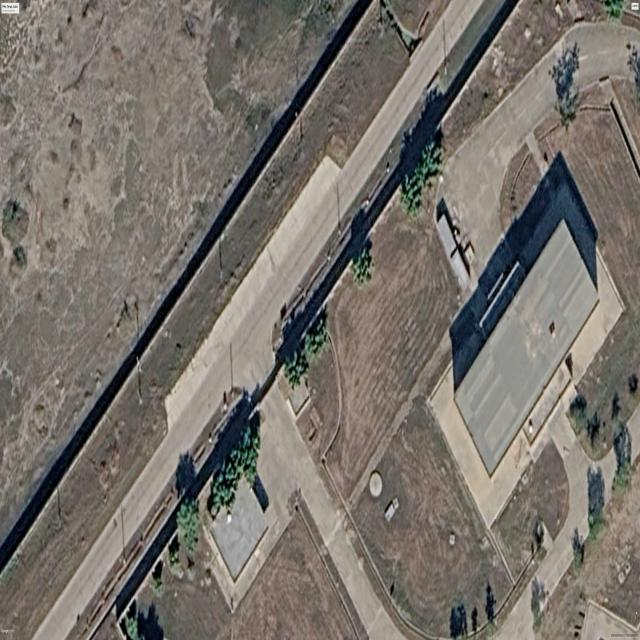Home: (454, 221, 599, 476)
